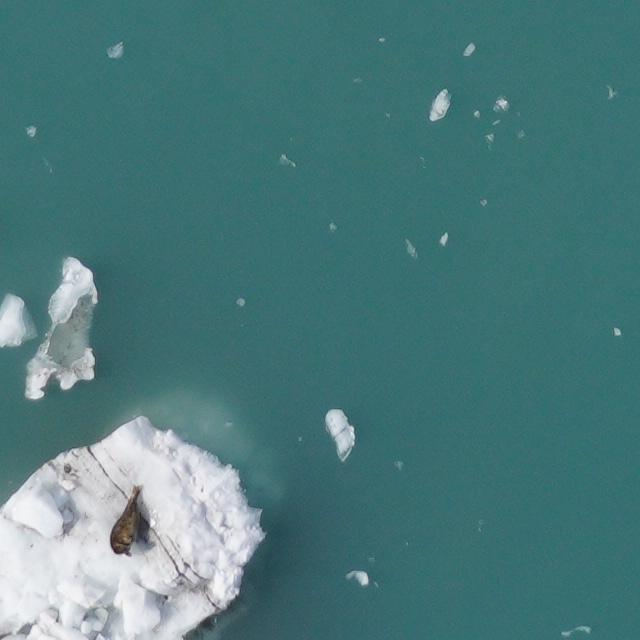seal: (101, 480, 151, 559)
